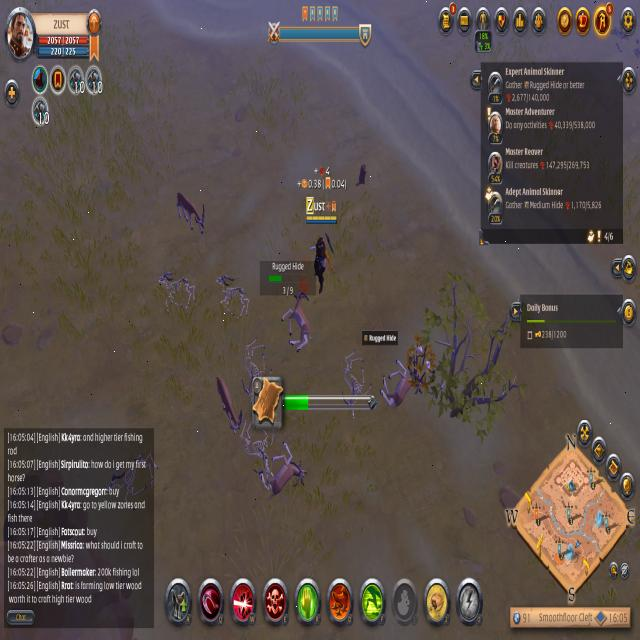deer_alive: (209, 370, 248, 442), (172, 184, 212, 247)
deer_dead: (279, 287, 319, 361), (265, 444, 311, 504), (378, 351, 420, 412)
harvesting: (284, 390, 378, 414)
